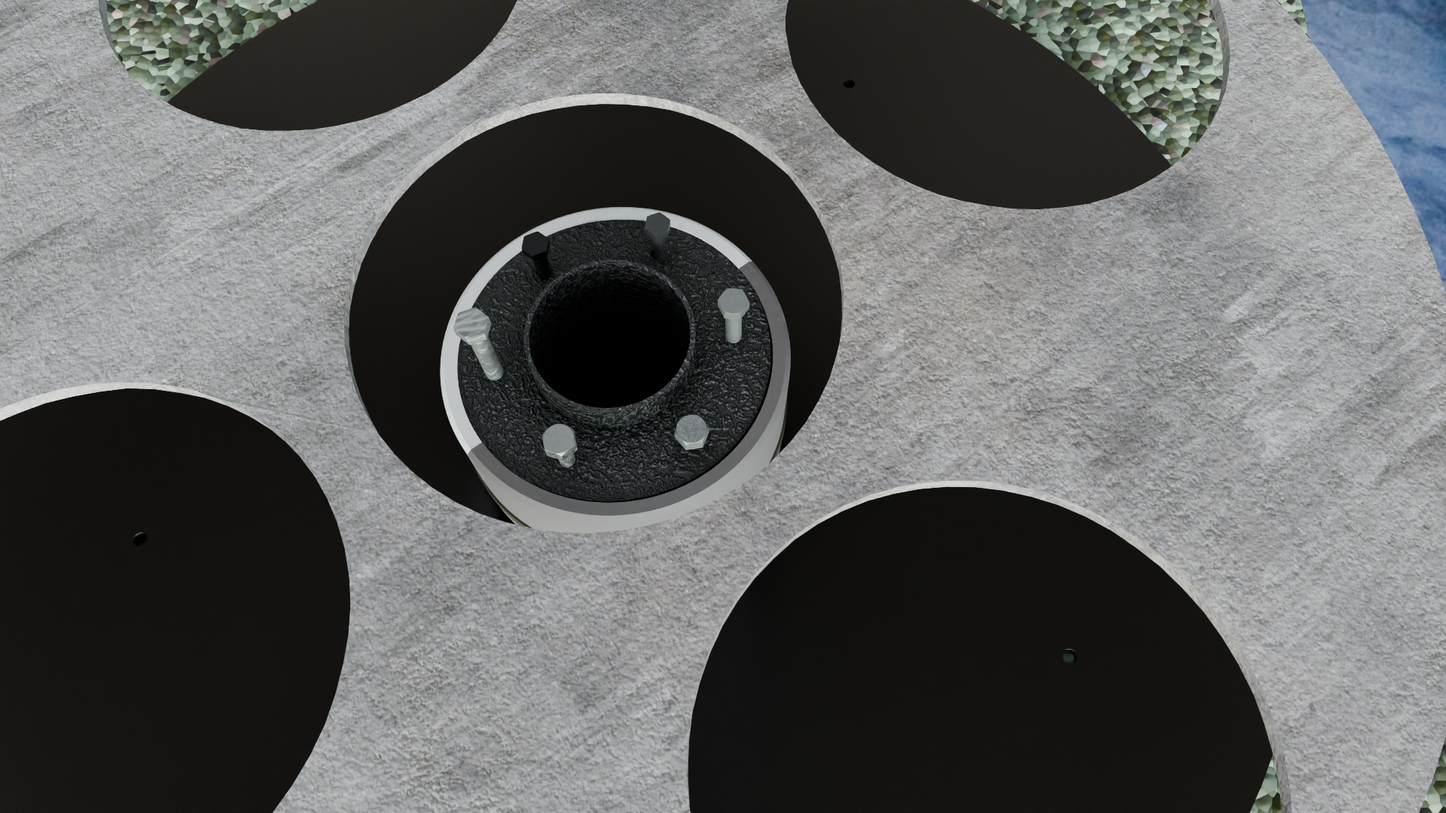bolt: (453, 307, 489, 340), (542, 424, 576, 456), (675, 415, 709, 446), (718, 288, 749, 315), (521, 231, 548, 256), (645, 212, 670, 236)
